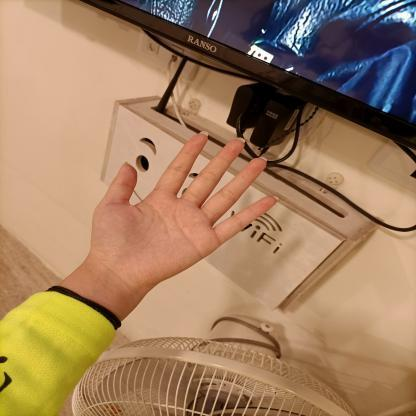bare_hand: (80, 122, 286, 282)
